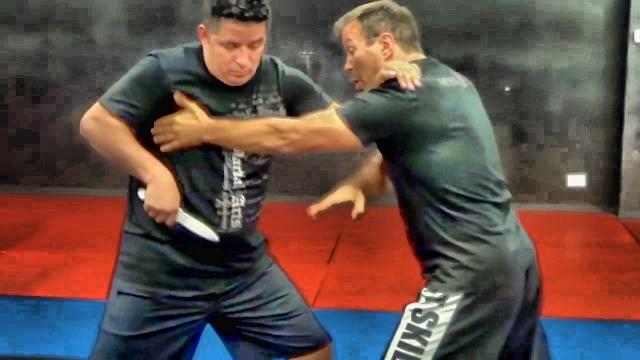knife: (134, 185, 220, 244)
